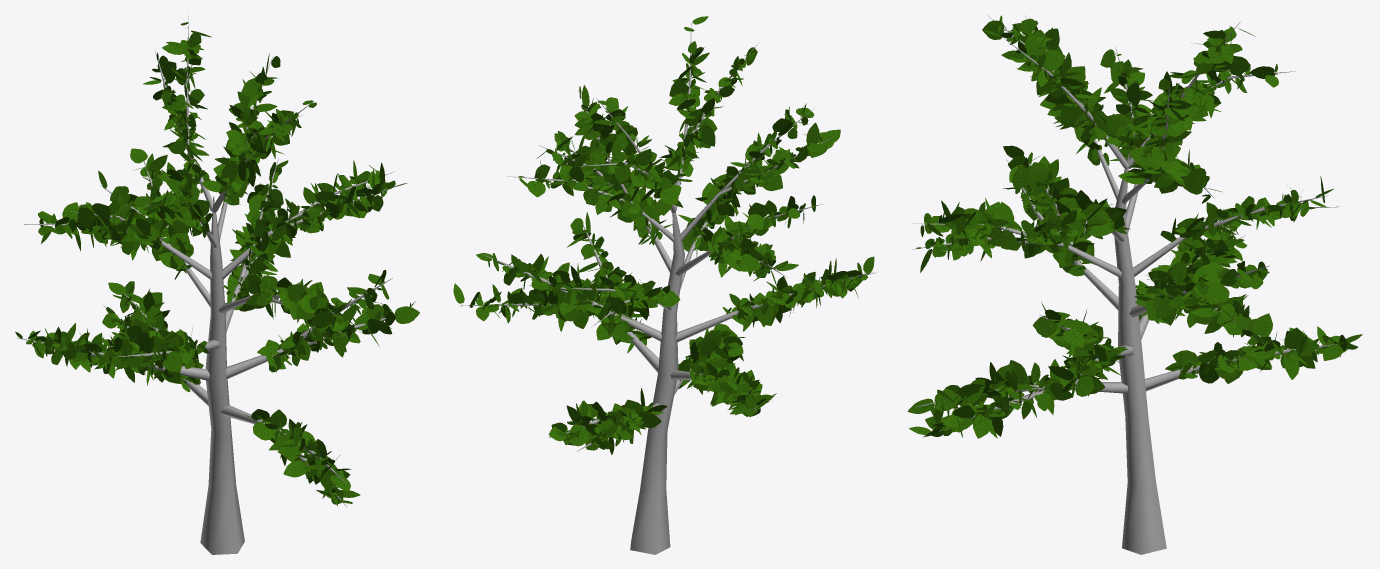
Rendered from Tree4-leafs.fbx.
3 views of the same model, side by side, from view 1: azimuth 30°, elevation 25°; view 2: azimuth 150°, elevation 25°; view 3: azimuth 270°, elevation 25° (orthographic). The views are drawn at different scales.
Parts seen in each view (by area): view 1: polySurface3488, polySurface2649; view 2: polySurface3488, polySurface2649; view 3: polySurface3488, polySurface2649.
Boxes of the visible parts, bbox=[...] form: polySurface3488: bbox=[15, 22, 419, 505]; polySurface2649: bbox=[16, 15, 405, 554]; polySurface3488: bbox=[453, 16, 874, 454]; polySurface2649: bbox=[459, 23, 876, 554]; polySurface3488: bbox=[907, 15, 1362, 438]; polySurface2649: bbox=[911, 15, 1340, 554].
Size of the model in its own units: 535 by 757 by 593.
